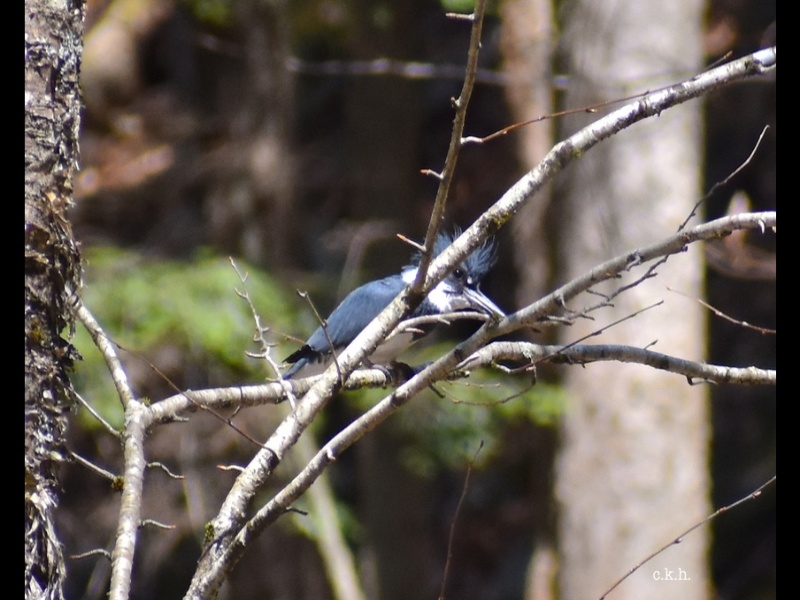kingfisher: (276, 219, 523, 394)
